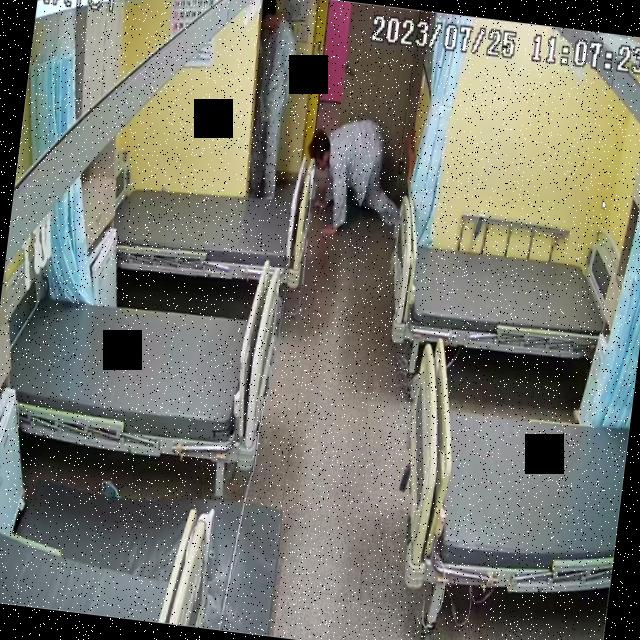bed: (389, 336, 637, 606), (0, 280, 278, 463), (380, 221, 627, 368), (110, 168, 310, 288)
fall: (298, 112, 416, 236)
patient: (296, 109, 414, 240), (236, 0, 299, 198)
stand: (236, 0, 299, 197)
